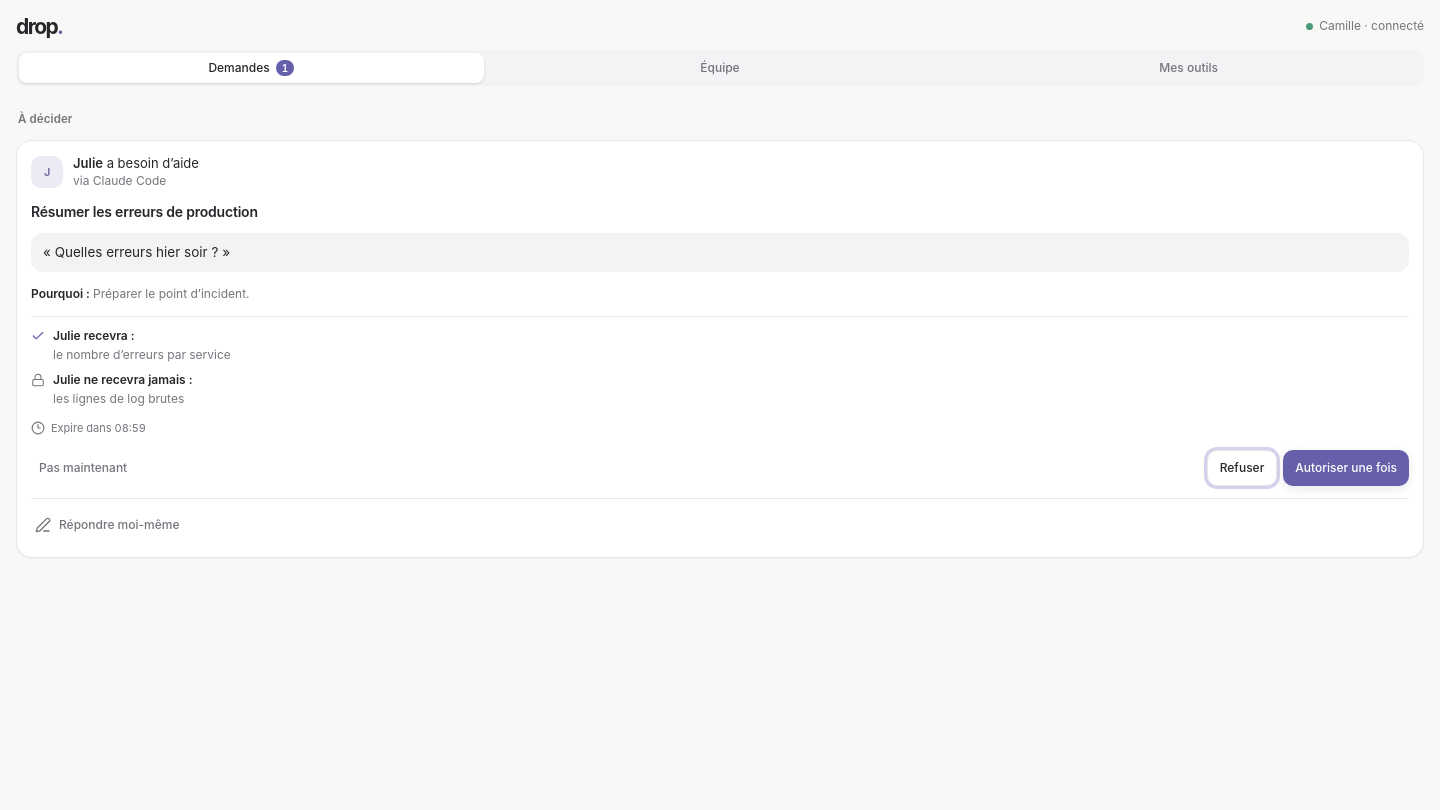
consent card (T4.35) › after a decision the card takes the focus and the single live region announces its state
This screenshot has width=1440, height=810.
Click the button "Refuser" at (1242, 468), box [1207,450,1277,486]
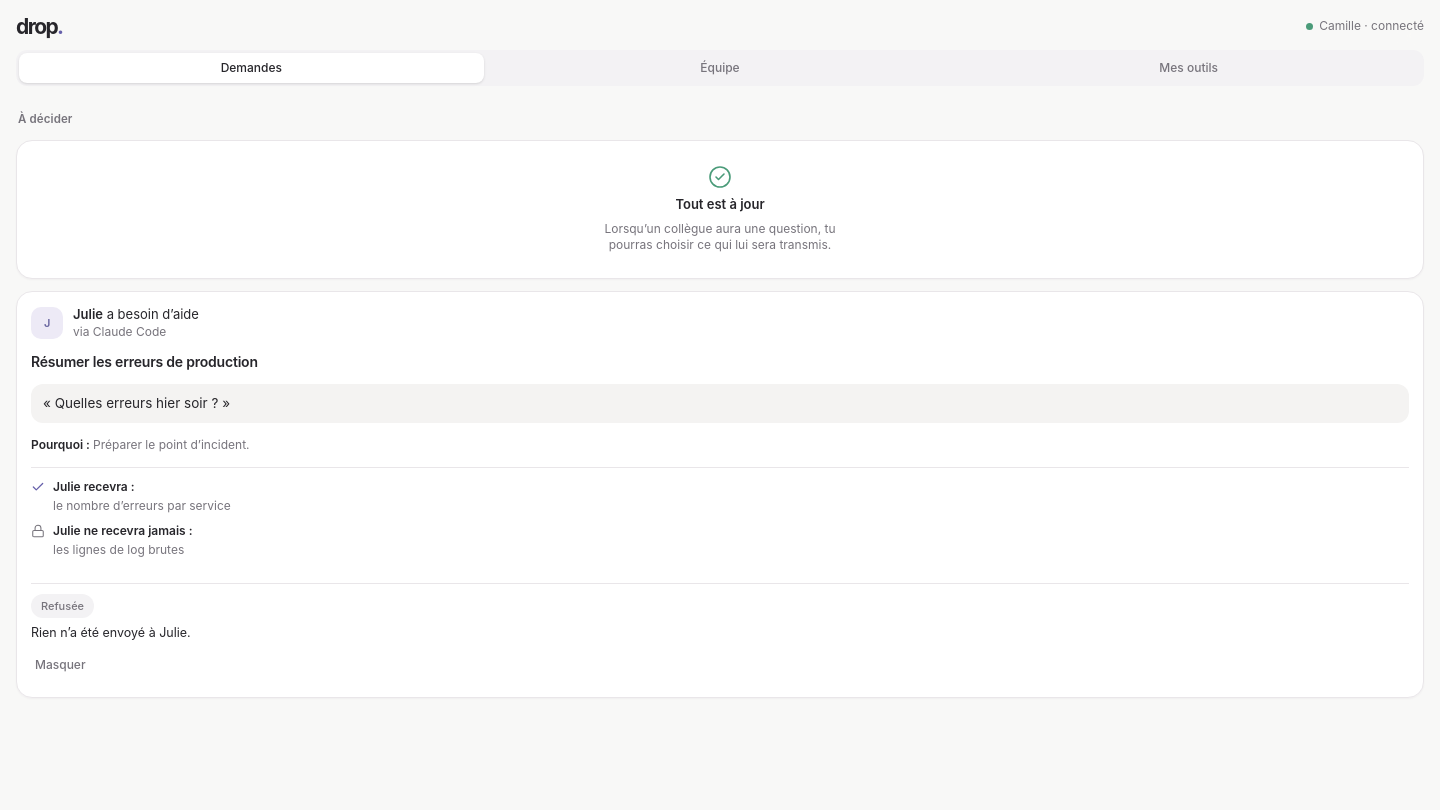
Expected: the text "Expire dans" is gone
